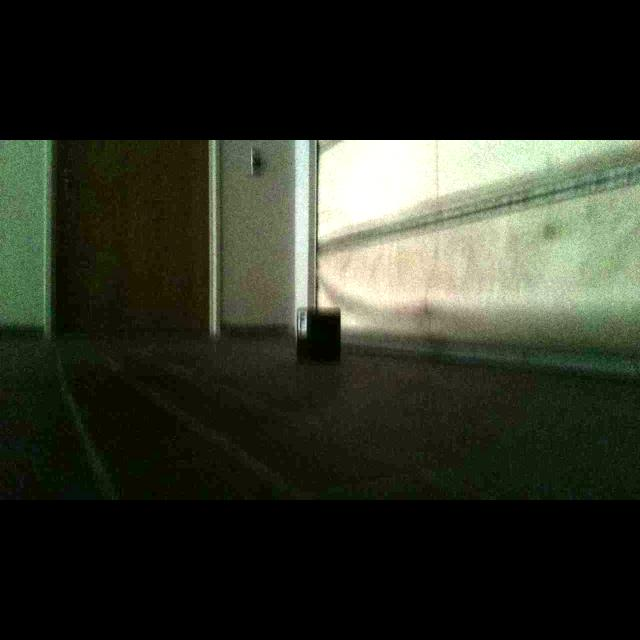F: (299, 313, 305, 329)
